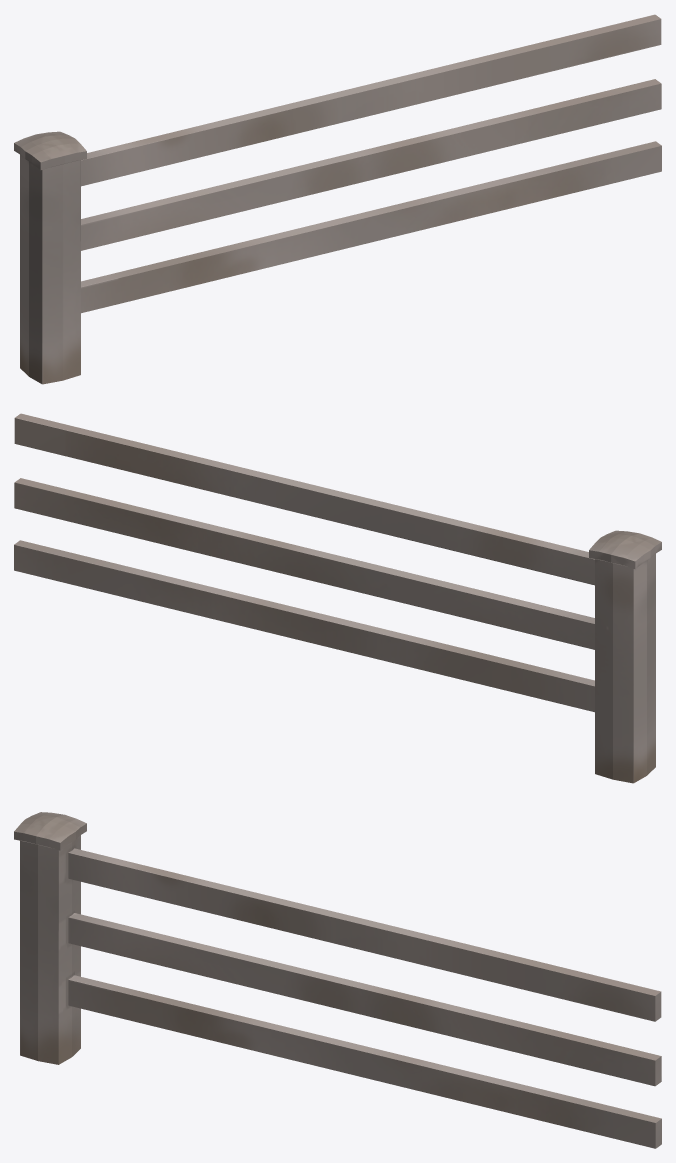
File: fence.obj
3 renders of one model, top to bottom at view 1: azimuth 30°, elevation 25°; view 2: azimuth 150°, elevation 25°; view 3: azimuth 330°, elevation 25°, orthographic.
Visible parts, largest first — view 1: Cube_Cube.001; view 2: Cube_Cube.001; view 3: Cube_Cube.001.
Part boxes in pixels (<box>): Cube_Cube.001: <box>14,14,661,384</box>; Cube_Cube.001: <box>14,413,661,783</box>; Cube_Cube.001: <box>14,812,661,1148</box>.
Size of the model in its own units: 14.78 by 5.15 by 1.18.
Materials: 1 (1 with a texture image).
